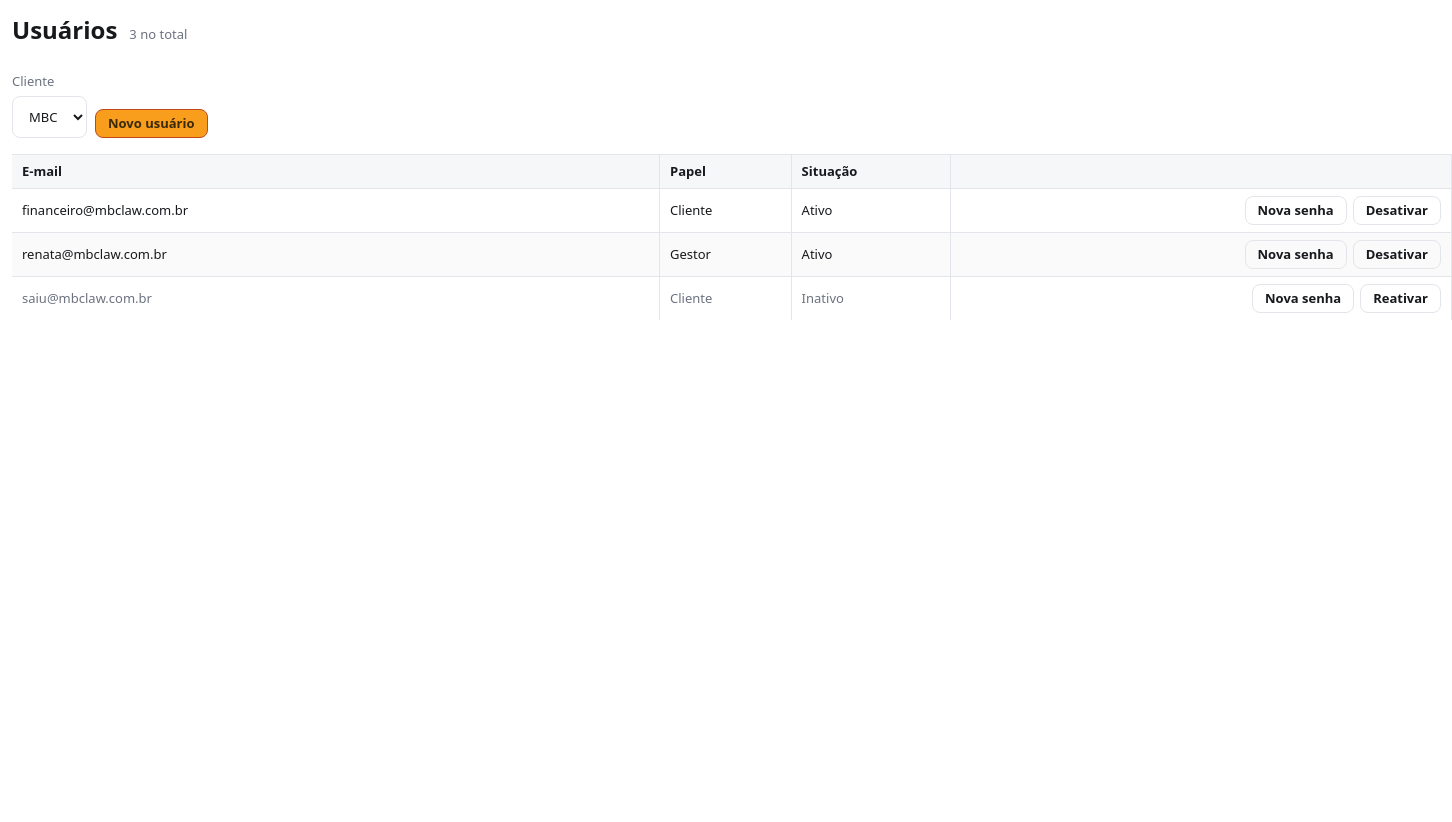
Test: UsuariosPage › only RUMO may pick the role or the client
This screenshot has width=1452, height=822.
Expected: the text "financeiro@mbclaw.com.br" is shown, x1=12 y1=189 x2=660 y2=233
Click the button "Novo usuário": [151, 123] box x1=95 y1=108 x2=208 y2=138
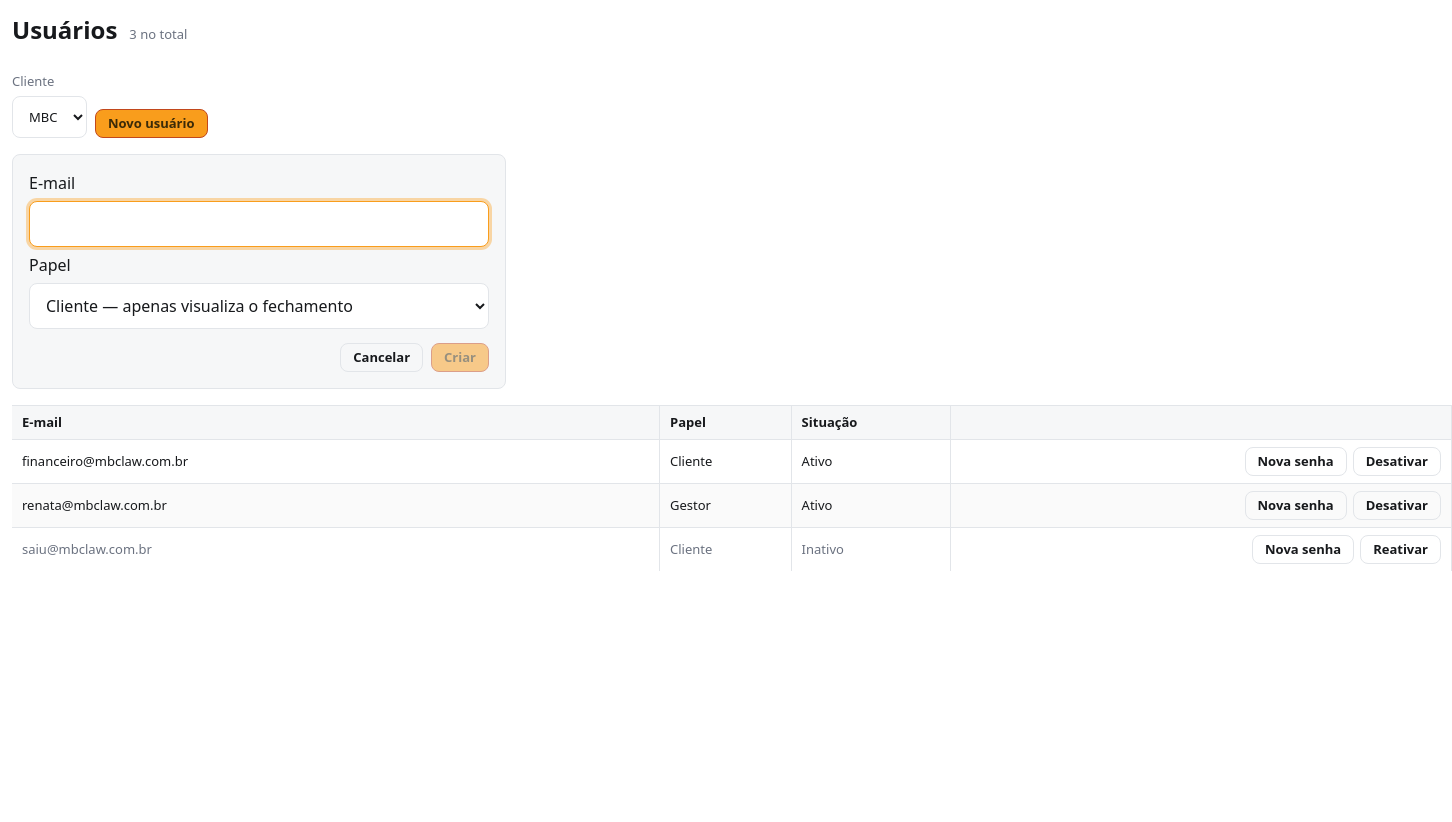
Expected: the dropdown labelled "Cliente" is shown, x1=12 y1=96 x2=87 y2=138
Result: the dropdown labelled "Papel" is shown at x1=29 y1=282 x2=489 y2=328
